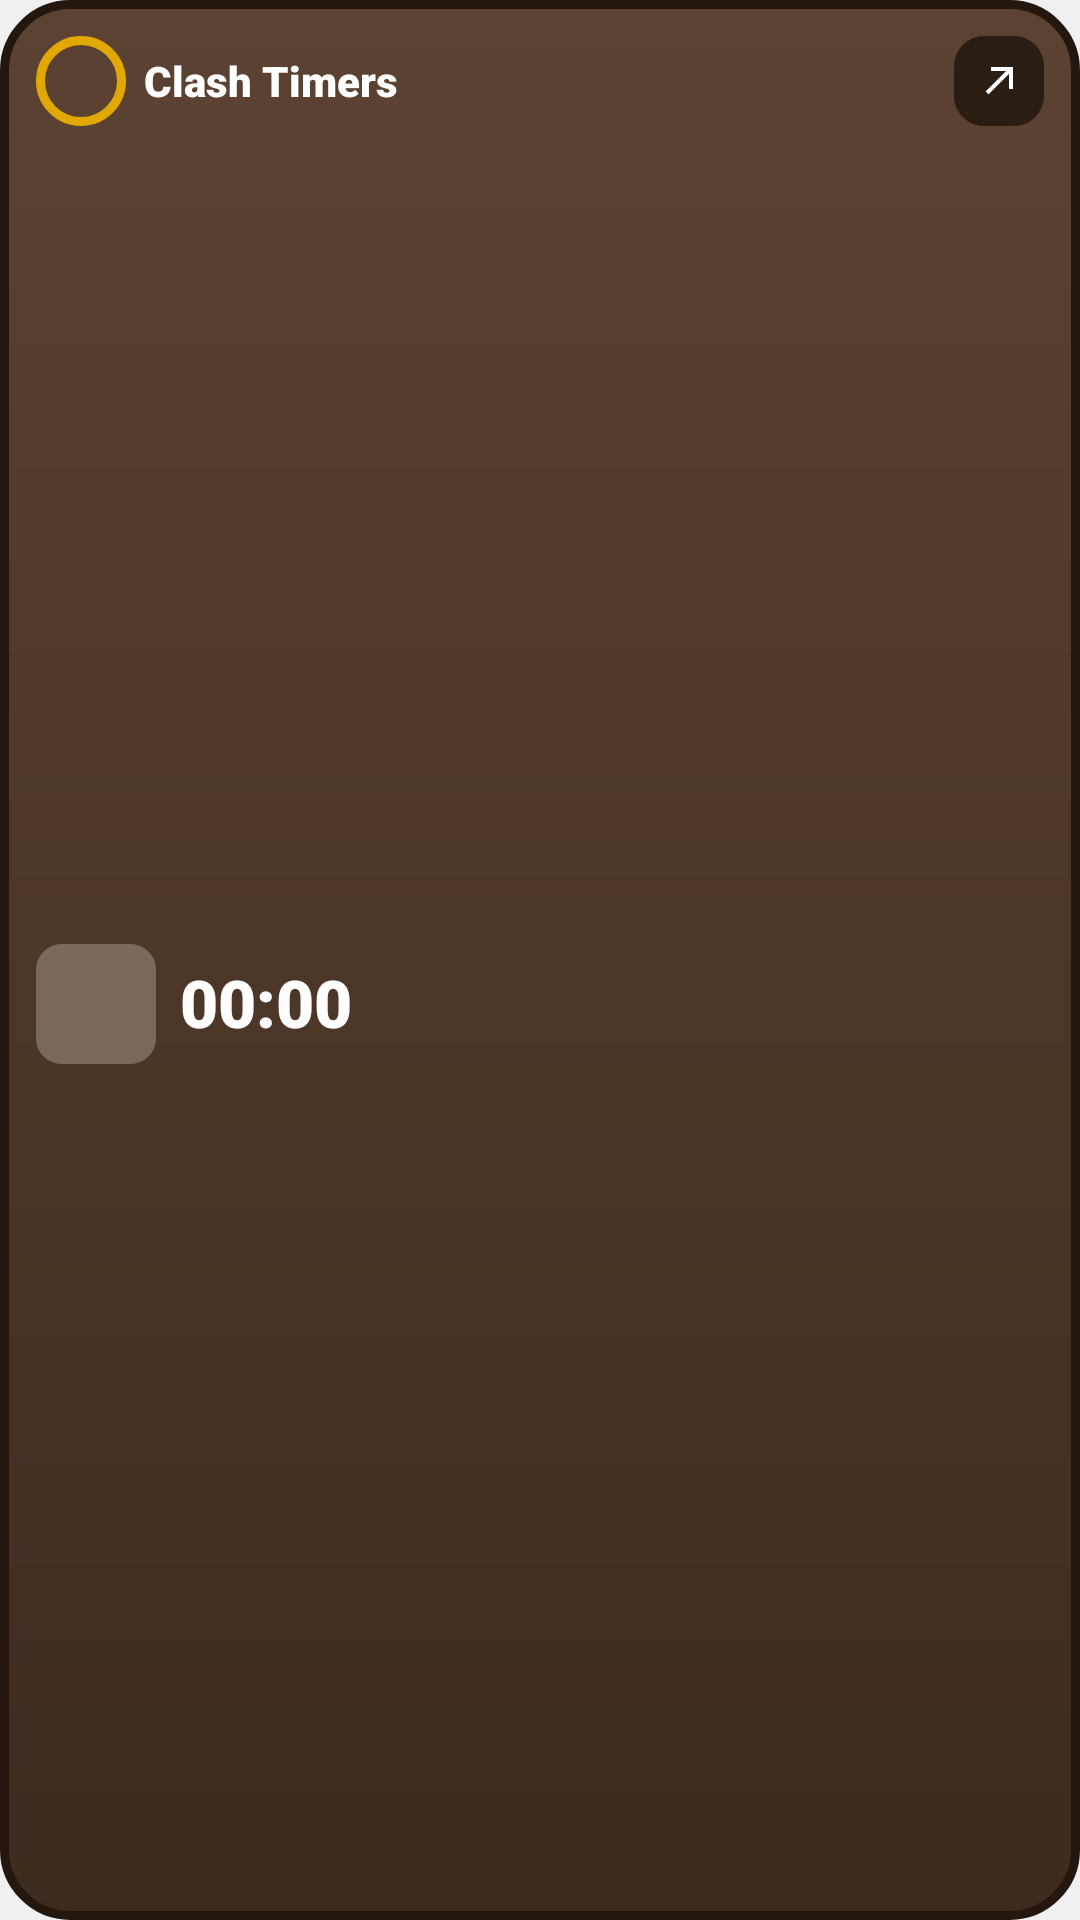

Point at icon controls on the screen. Image size 1080px×1920px, points as point (x, y).
Open Clash Timers: point (999, 81)
